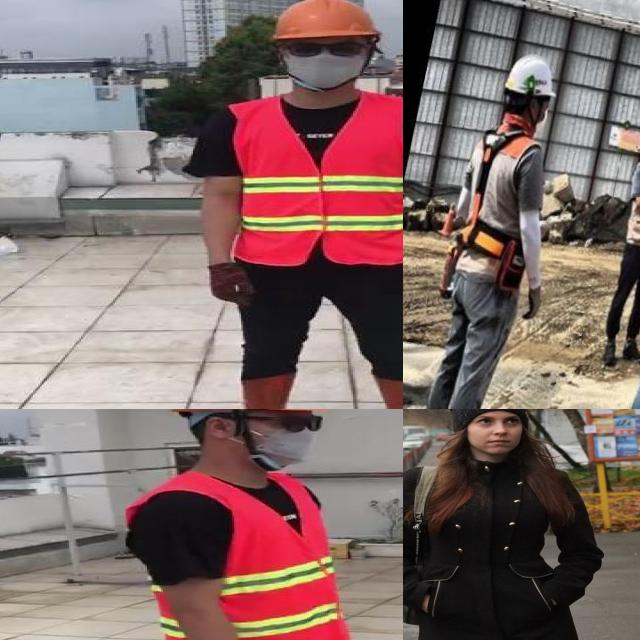Harness: (460, 131, 517, 260)
No_Ear-Protection: (202, 414, 238, 446)
boots: (218, 376, 296, 409)
face_mask: (275, 34, 371, 88)
glasses: (278, 36, 376, 64)
hand_glove: (206, 264, 256, 303)
head_helmet: (264, 0, 382, 42)
person: (180, 0, 403, 409), (91, 409, 403, 640)
vest: (122, 470, 351, 640), (228, 94, 403, 265)
